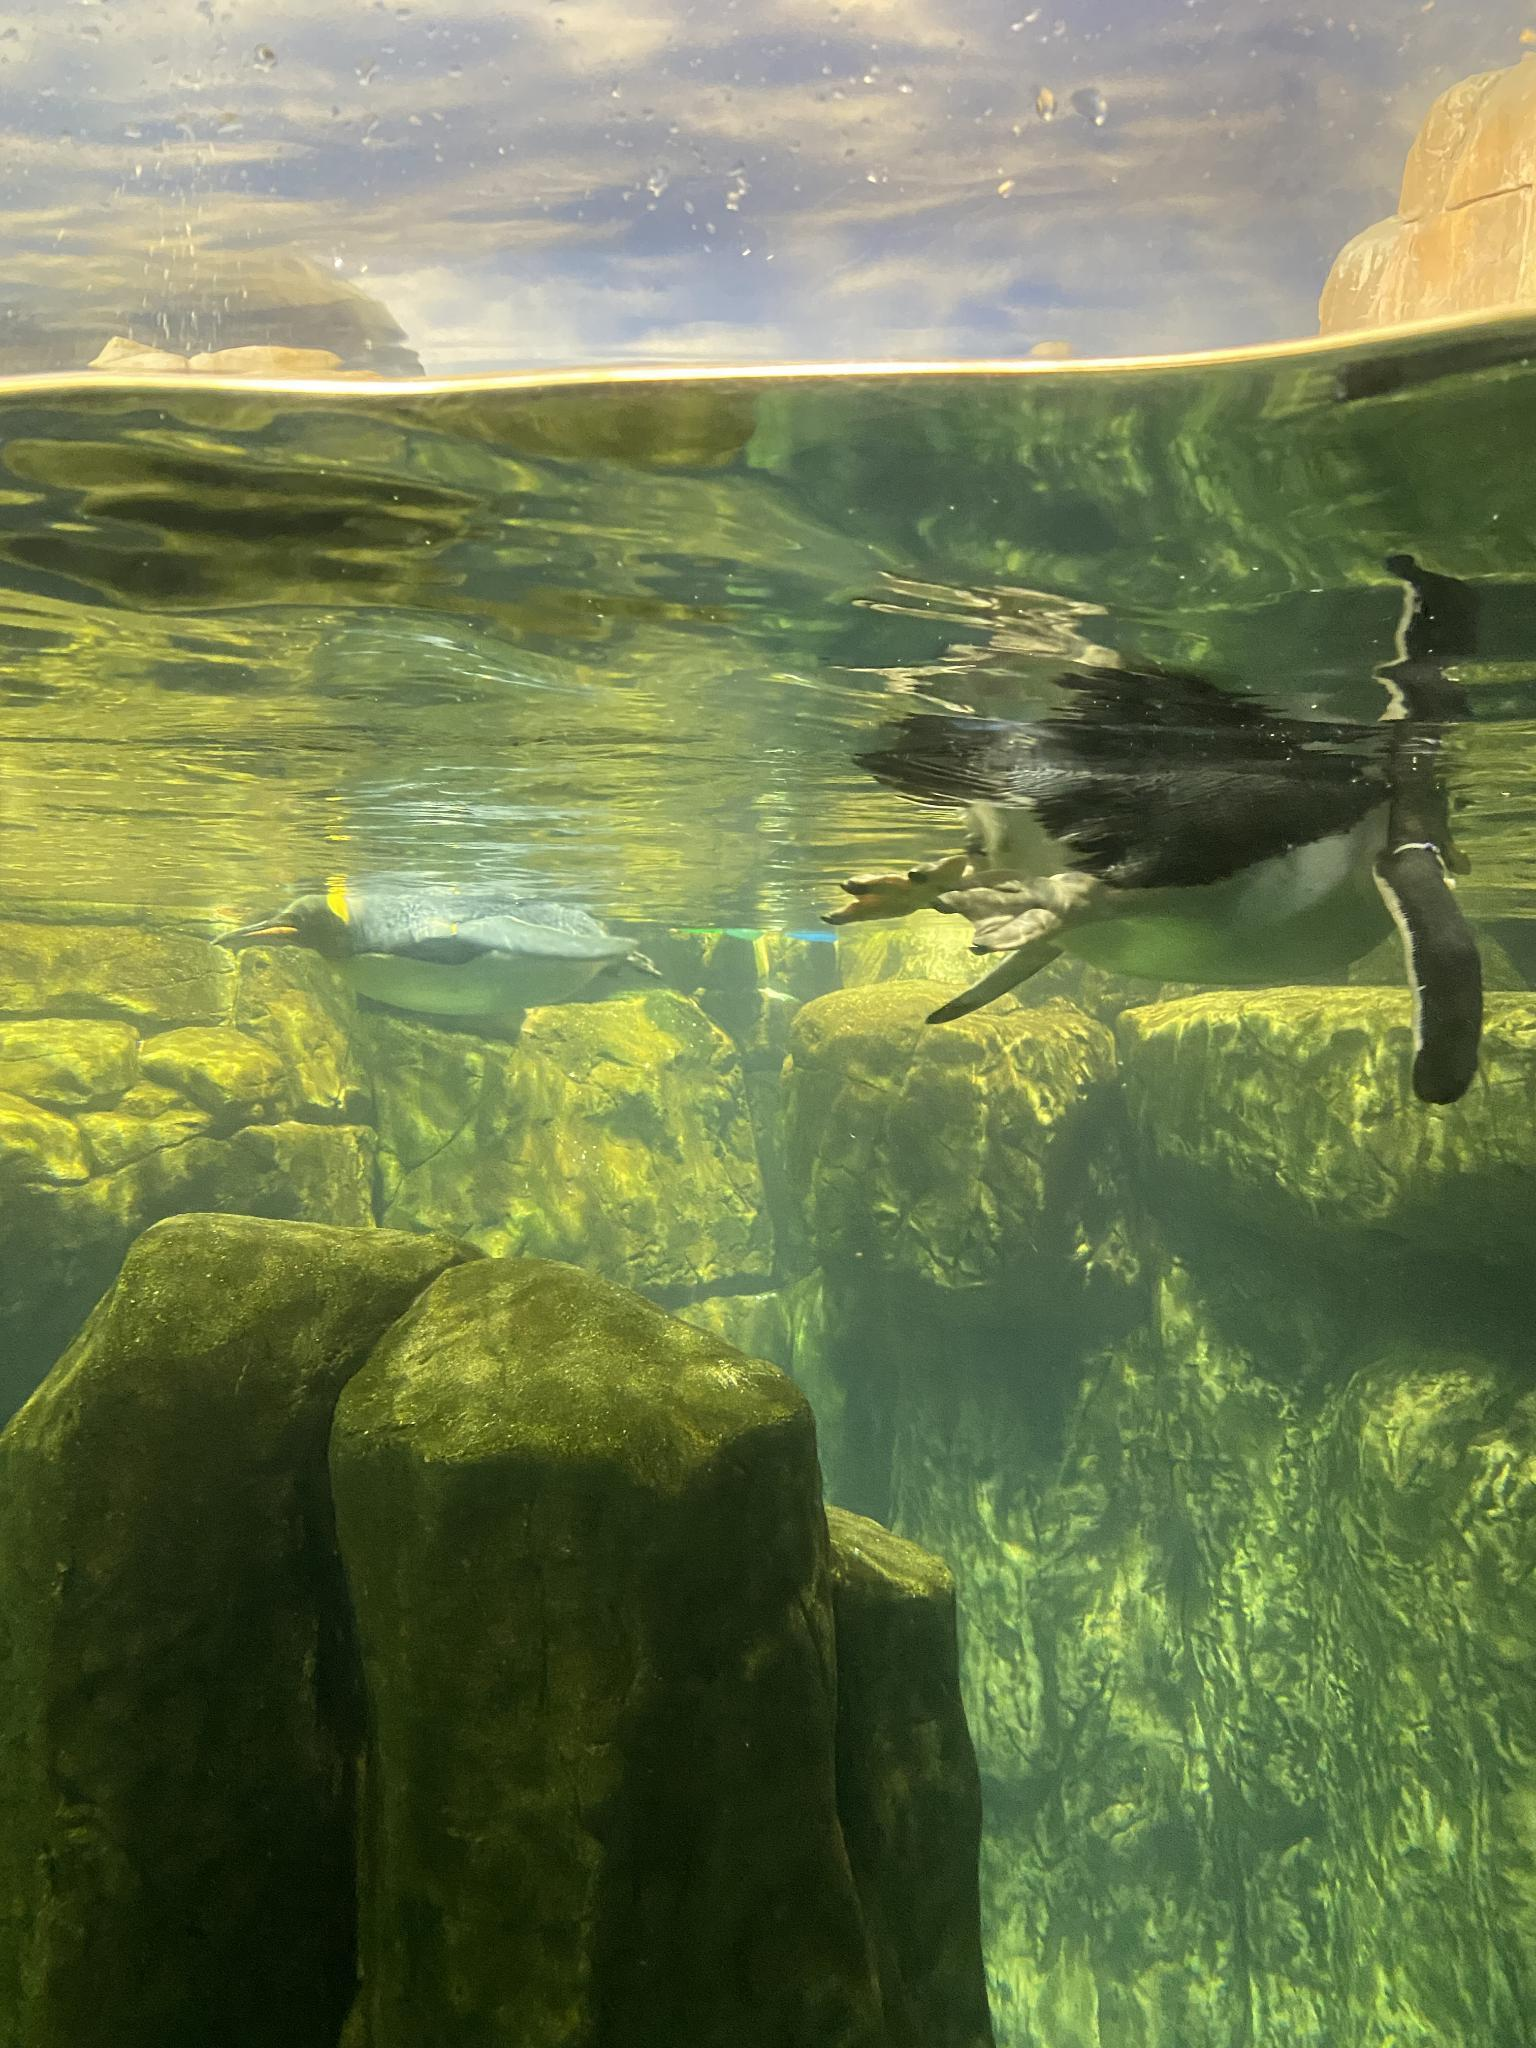penguin: (823, 669, 1483, 1101), (219, 884, 665, 1037)
